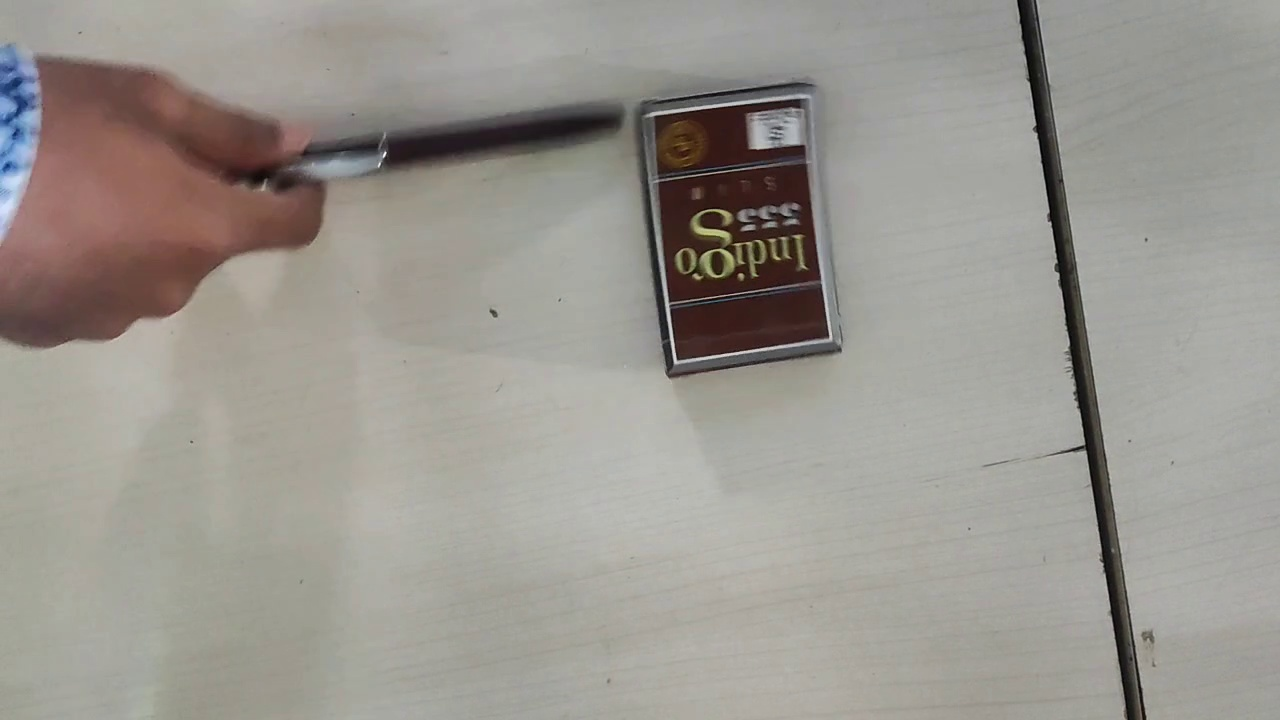BEX: (643, 94, 827, 360)
